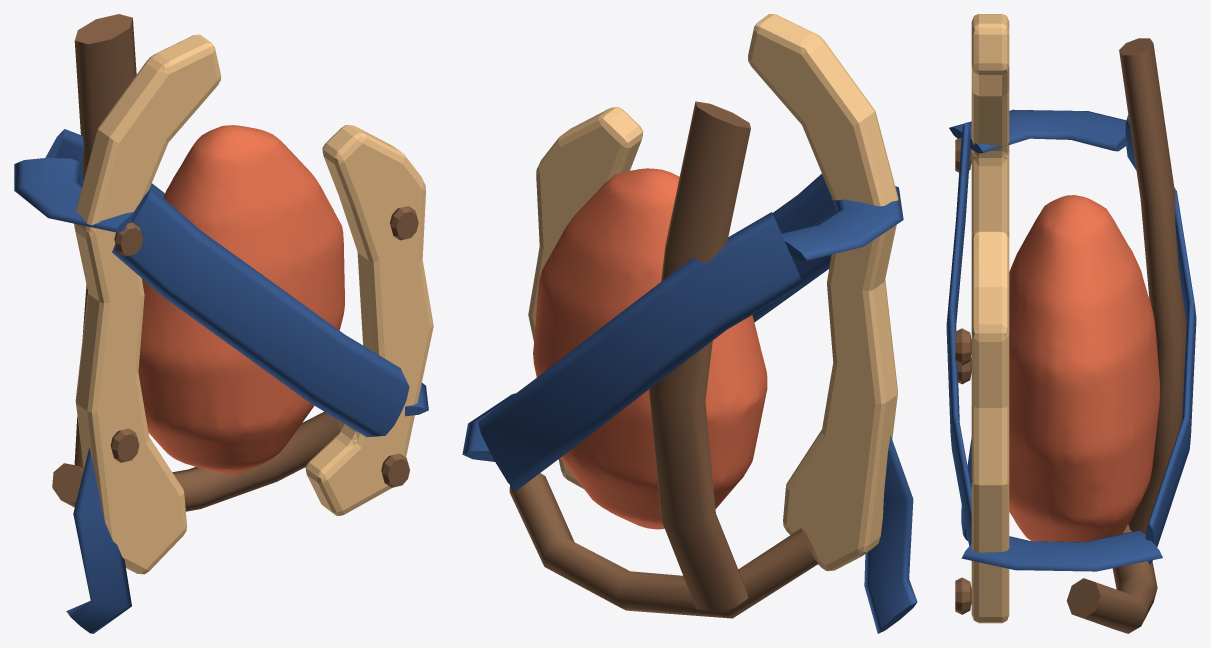
The model's file is hybrid_carved_sdf.obj.
The picture shows the model from 3 angles, left to right: view 1: azimuth 30°, elevation 25°; view 2: azimuth 150°, elevation 25°; view 3: azimuth 270°, elevation 25°; orthographic projection. The views are drawn at different scales.
Visible parts, largest first — view 1: CORE_OrganicVolume.001_hybrid_carved_sdf_core, FABRICATED_left.001_hybrid_carved_sdf_outer, BINDING_FrontDiagonal.001_hybrid_carved_sdf_binding, FABRICATED_right.001_hybrid_carved_sdf_outer, BACK_SupportSpine.001_hybrid_carved_sdf_spine, BASE_Cradle.001_hybrid_carved_sdf_spine, BINDING_FoldedTail.001_hybrid_carved_sdf_binding, BINDING_LeftReturn.001_hybrid_carved_sdf_binding, BINDING_BackDiagonal.001_hybrid_carved_sdf_binding, FASTENER_1.001_hybrid_carved_sdf_spine, FASTENER_2.001_hybrid_carved_sdf_spine, FASTENER_3.001_hybrid_carved_sdf_spine (+1 smaller); view 2: FABRICATED_left.001_hybrid_carved_sdf_outer, CORE_OrganicVolume.001_hybrid_carved_sdf_core, BINDING_BackDiagonal.001_hybrid_carved_sdf_binding, BACK_SupportSpine.001_hybrid_carved_sdf_spine, BASE_Cradle.001_hybrid_carved_sdf_spine, FABRICATED_right.001_hybrid_carved_sdf_outer, BINDING_FoldedTail.001_hybrid_carved_sdf_binding, BINDING_LeftReturn.001_hybrid_carved_sdf_binding, BINDING_FrontDiagonal.001_hybrid_carved_sdf_binding, BINDING_RightReturn.001_hybrid_carved_sdf_binding; view 3: CORE_OrganicVolume.001_hybrid_carved_sdf_core, FABRICATED_right.001_hybrid_carved_sdf_outer, BACK_SupportSpine.001_hybrid_carved_sdf_spine, FABRICATED_left.001_hybrid_carved_sdf_outer, BINDING_RightReturn.001_hybrid_carved_sdf_binding, BINDING_BackDiagonal.001_hybrid_carved_sdf_binding, BINDING_FrontDiagonal.001_hybrid_carved_sdf_binding, BASE_Cradle.001_hybrid_carved_sdf_spine, BINDING_LeftReturn.001_hybrid_carved_sdf_binding, FASTENER_3.001_hybrid_carved_sdf_spine, FASTENER_2.001_hybrid_carved_sdf_spine.
Boxes of the visible parts, box(x1,y1,x2,y2) form: CORE_OrganicVolume.001_hybrid_carved_sdf_core: box(138, 125, 344, 474); FABRICATED_left.001_hybrid_carved_sdf_outer: box(74, 34, 220, 574); BINDING_FrontDiagonal.001_hybrid_carved_sdf_binding: box(112, 187, 409, 437); FABRICATED_right.001_hybrid_carved_sdf_outer: box(305, 125, 433, 515); BACK_SupportSpine.001_hybrid_carved_sdf_spine: box(74, 14, 136, 468); BASE_Cradle.001_hybrid_carved_sdf_spine: box(52, 411, 343, 511); BINDING_FoldedTail.001_hybrid_carved_sdf_binding: box(66, 448, 131, 633); BINDING_LeftReturn.001_hybrid_carved_sdf_binding: box(14, 157, 134, 232); BINDING_BackDiagonal.001_hybrid_carved_sdf_binding: box(45, 129, 164, 197); FASTENER_1.001_hybrid_carved_sdf_spine: box(110, 428, 139, 462); FASTENER_2.001_hybrid_carved_sdf_spine: box(390, 206, 418, 240); FASTENER_3.001_hybrid_carved_sdf_spine: box(381, 453, 409, 487); FABRICATED_left.001_hybrid_carved_sdf_outer: box(748, 14, 898, 571); CORE_OrganicVolume.001_hybrid_carved_sdf_core: box(533, 168, 767, 529); BINDING_BackDiagonal.001_hybrid_carved_sdf_binding: box(478, 212, 803, 490); BACK_SupportSpine.001_hybrid_carved_sdf_spine: box(649, 101, 750, 611); BASE_Cradle.001_hybrid_carved_sdf_spine: box(509, 473, 818, 618); FABRICATED_right.001_hybrid_carved_sdf_outer: box(528, 107, 643, 488); BINDING_FoldedTail.001_hybrid_carved_sdf_binding: box(864, 435, 917, 633); BINDING_LeftReturn.001_hybrid_carved_sdf_binding: box(781, 186, 903, 260); BINDING_FrontDiagonal.001_hybrid_carved_sdf_binding: box(752, 174, 835, 322); BINDING_RightReturn.001_hybrid_carved_sdf_binding: box(462, 393, 515, 461); CORE_OrganicVolume.001_hybrid_carved_sdf_core: box(1009, 195, 1160, 542); FABRICATED_right.001_hybrid_carved_sdf_outer: box(971, 231, 1009, 623); BACK_SupportSpine.001_hybrid_carved_sdf_spine: box(1119, 38, 1186, 534); FABRICATED_left.001_hybrid_carved_sdf_outer: box(971, 14, 1009, 238); BINDING_RightReturn.001_hybrid_carved_sdf_binding: box(961, 530, 1162, 571); BINDING_BackDiagonal.001_hybrid_carved_sdf_binding: box(1125, 114, 1196, 564); BINDING_FrontDiagonal.001_hybrid_carved_sdf_binding: box(946, 122, 971, 545); BASE_Cradle.001_hybrid_carved_sdf_spine: box(1066, 524, 1157, 633); BINDING_LeftReturn.001_hybrid_carved_sdf_binding: box(949, 109, 1127, 153); FASTENER_3.001_hybrid_carved_sdf_spine: box(955, 577, 971, 614); FASTENER_2.001_hybrid_carved_sdf_spine: box(955, 328, 971, 365).
Bounding box in the file's own units: 2.52 × 3.6 × 1.39.
